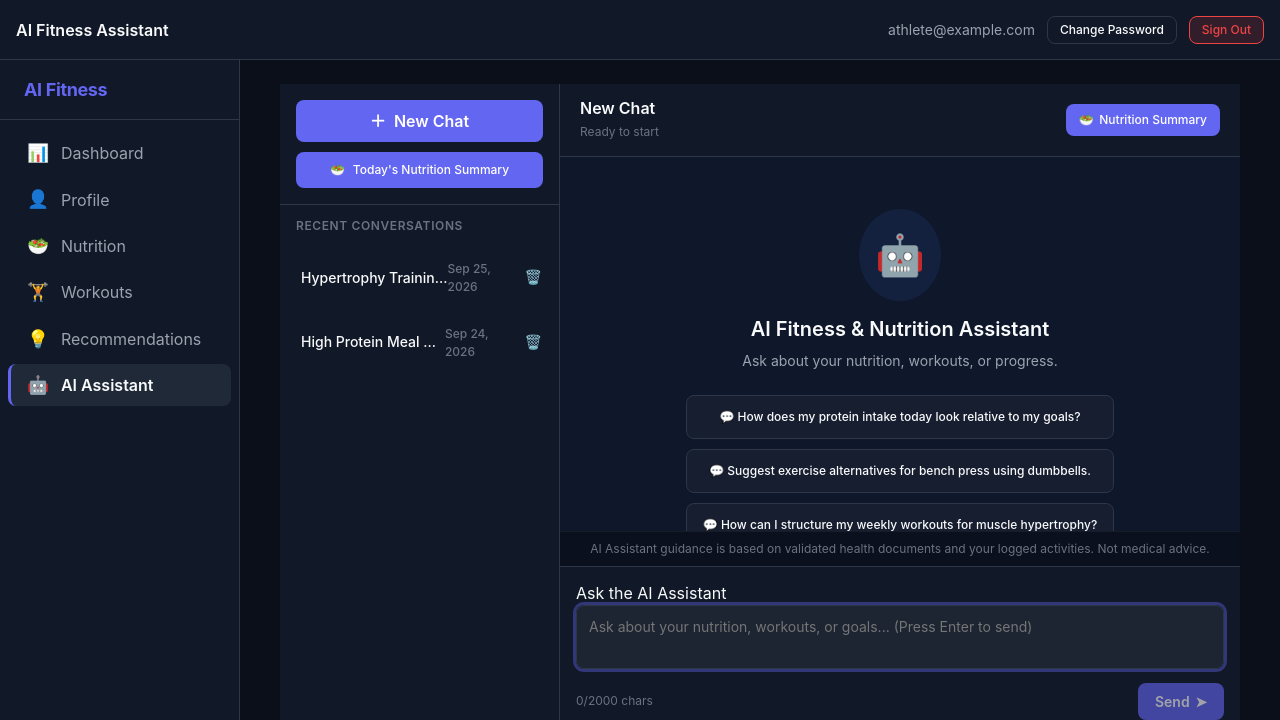
Scenario: Phase 8H — AI Assistant & RAG Tests › 11. assistant response renders with response text
This screenshot has width=1280, height=720.
Expected: the heading "AI Fitness & Nutrition Assistant" is shown, x1=751 y1=317 x2=1049 y2=342
In the text box labelled "Ask the AI Assistant": {"x": 900, "y": 637} x1=576 y1=605 x2=1224 y2=669, type "How much protein?"
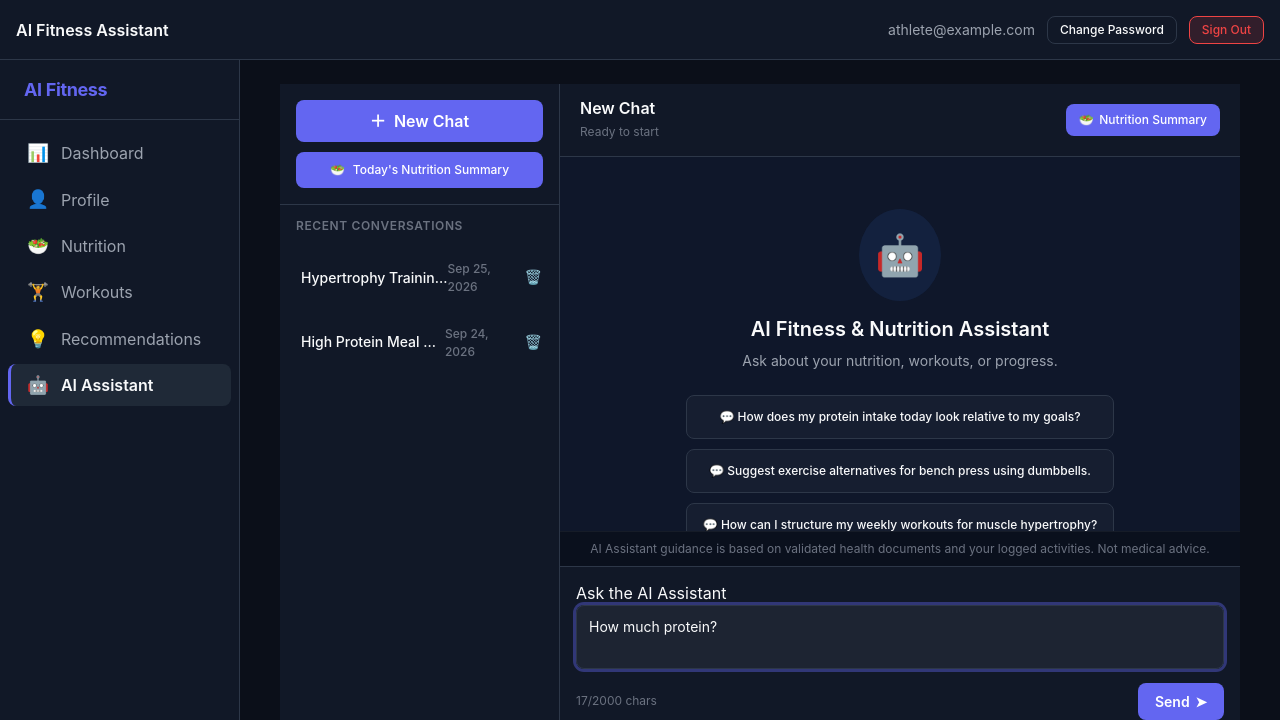
Click the button with aria-label "send message": {"x": 1181, "y": 701} x1=1138 y1=683 x2=1224 y2=719
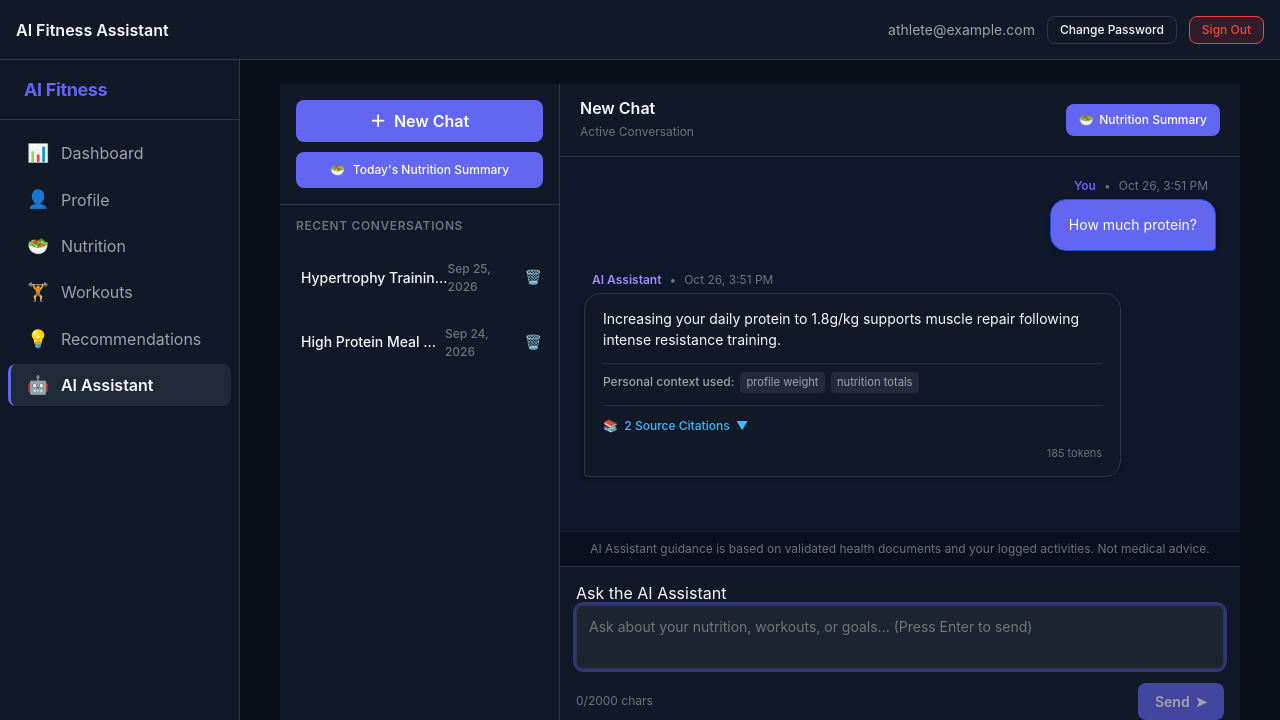
Result: the text "Increasing your daily protein to 1.8g/kg supports muscle repair" is shown at x1=603 y1=310 x2=1083 y2=348
